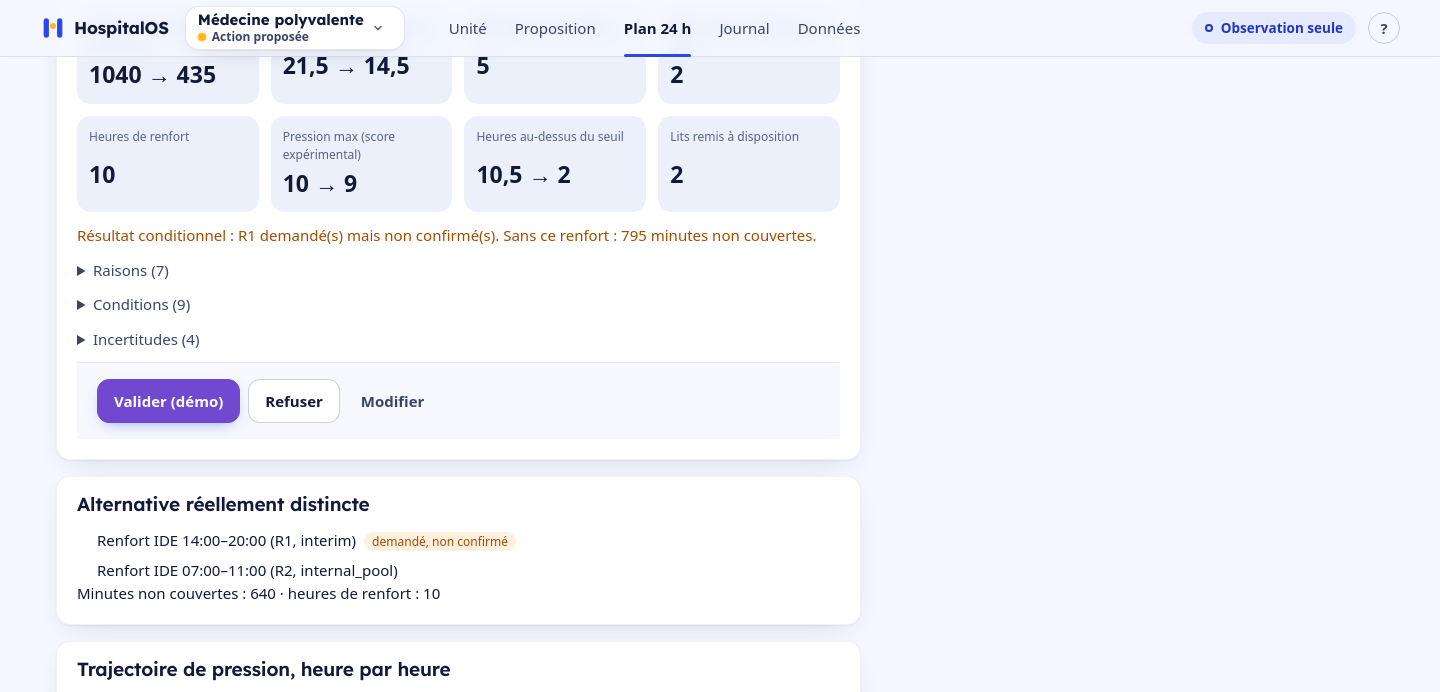
Test: plan à 24 h (moteur d'aide à la décision) › approves in demonstration only and sends nothing
The image size is (1440, 692).
(page scrolled)
Click the button with test id "ds-approve".
click(169, 401)  # box [97,379,240,423]
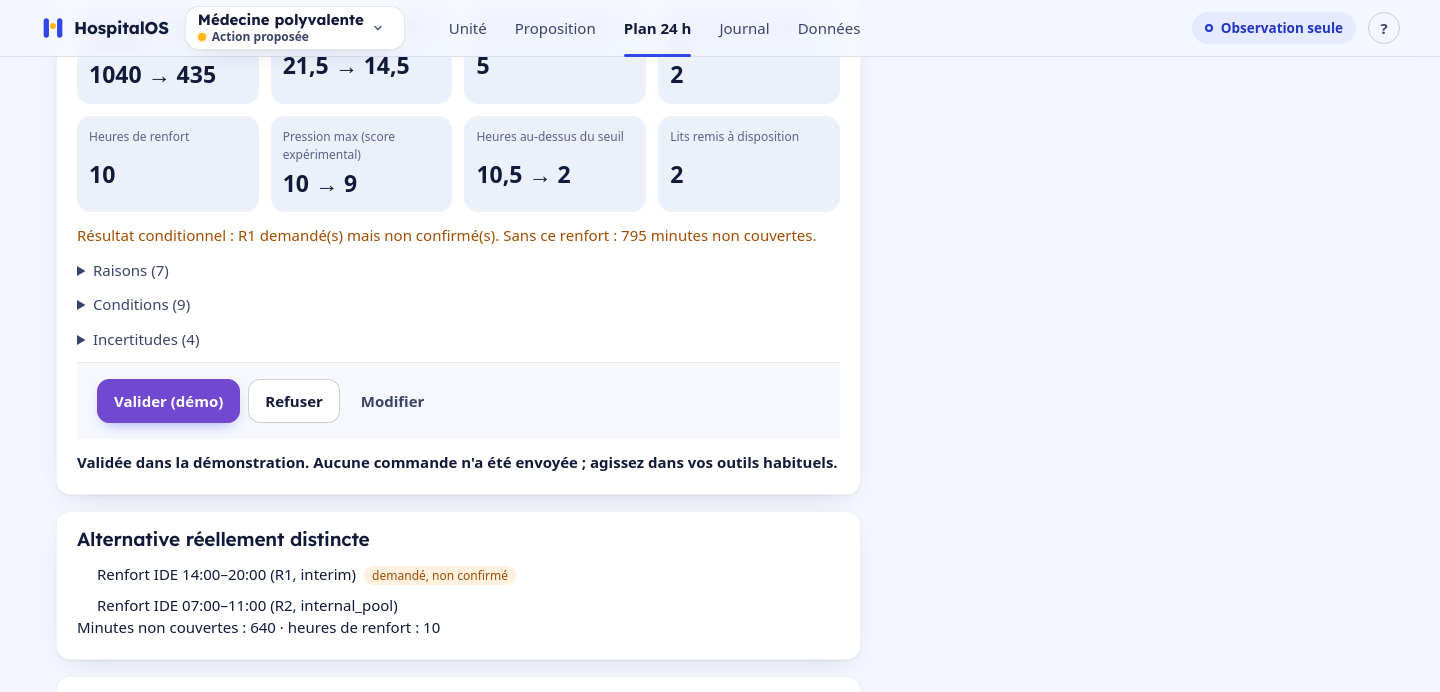
Check: the message with test id "ds-feedback" shows "Aucune commande", box [77,452,838,472]
